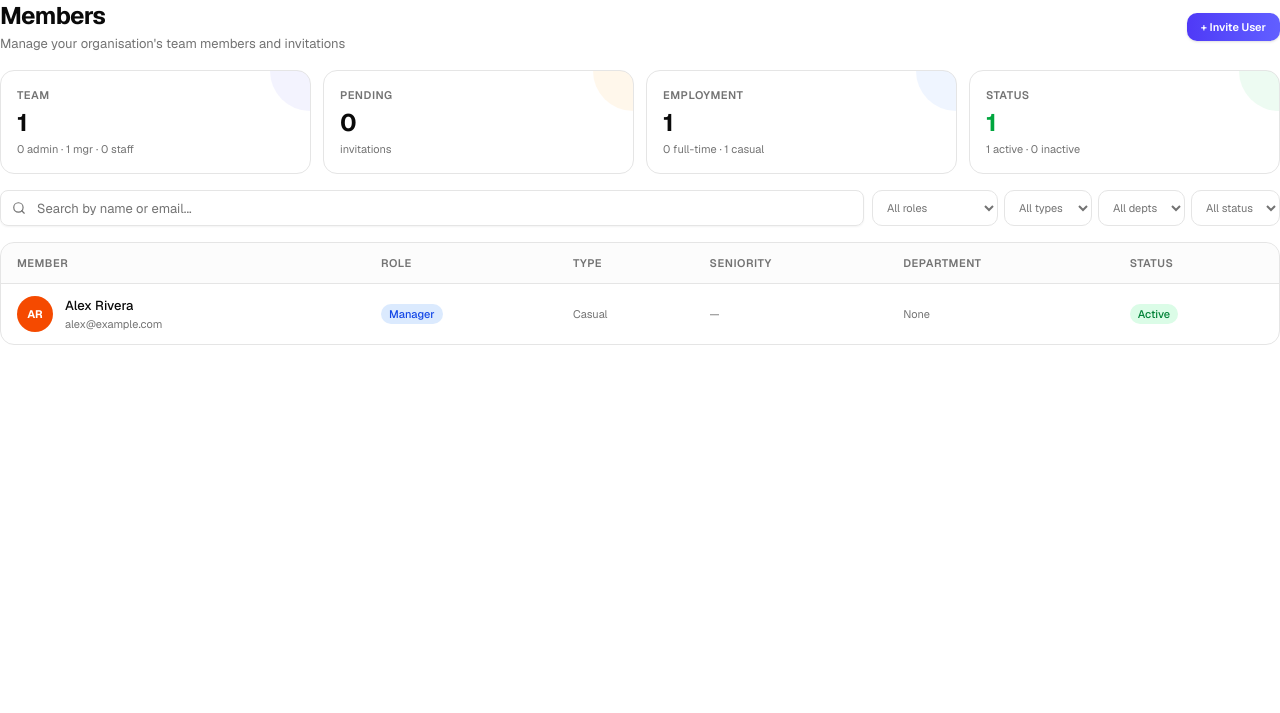
Scenario: a failed edit says which fault occurred › says the response was unreadable rather than blaming nothing in particular
Click the button with aria-label "edit" at (99, 306), box [65,296,133,316]
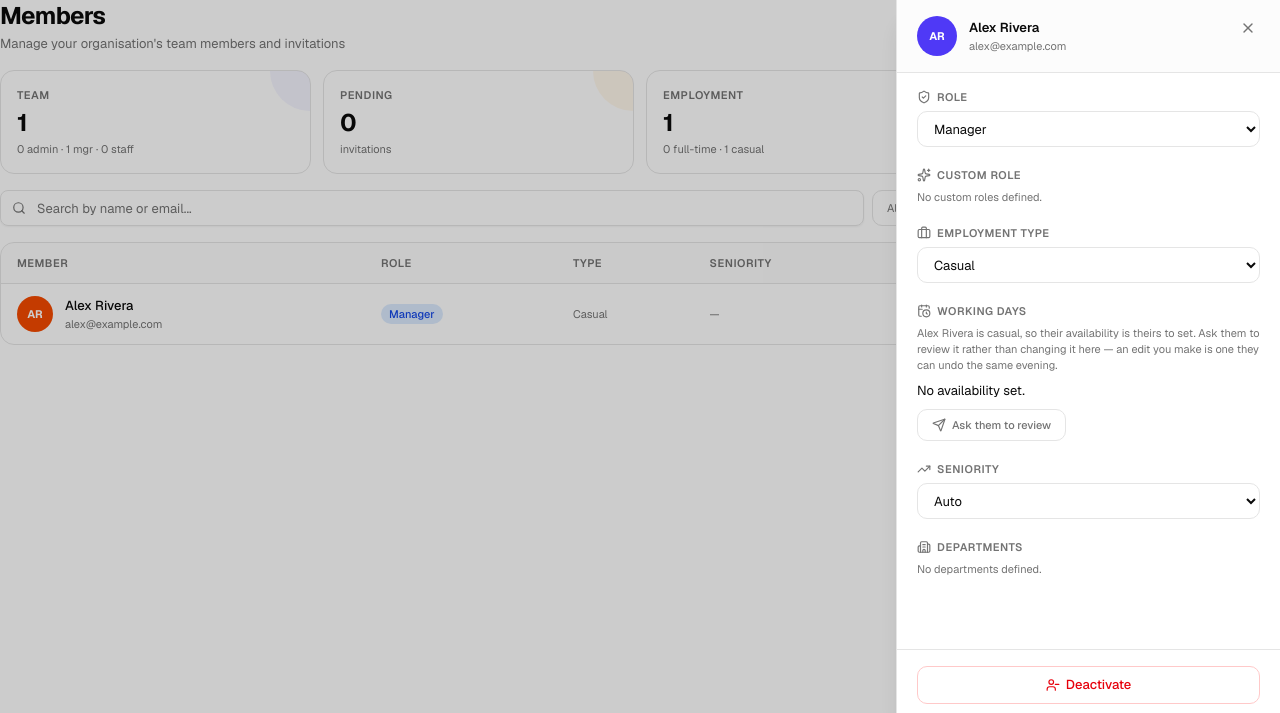
Select "Staff" in the dropdown labelled "Role" at (1088, 129), box [917,111,1260,147]
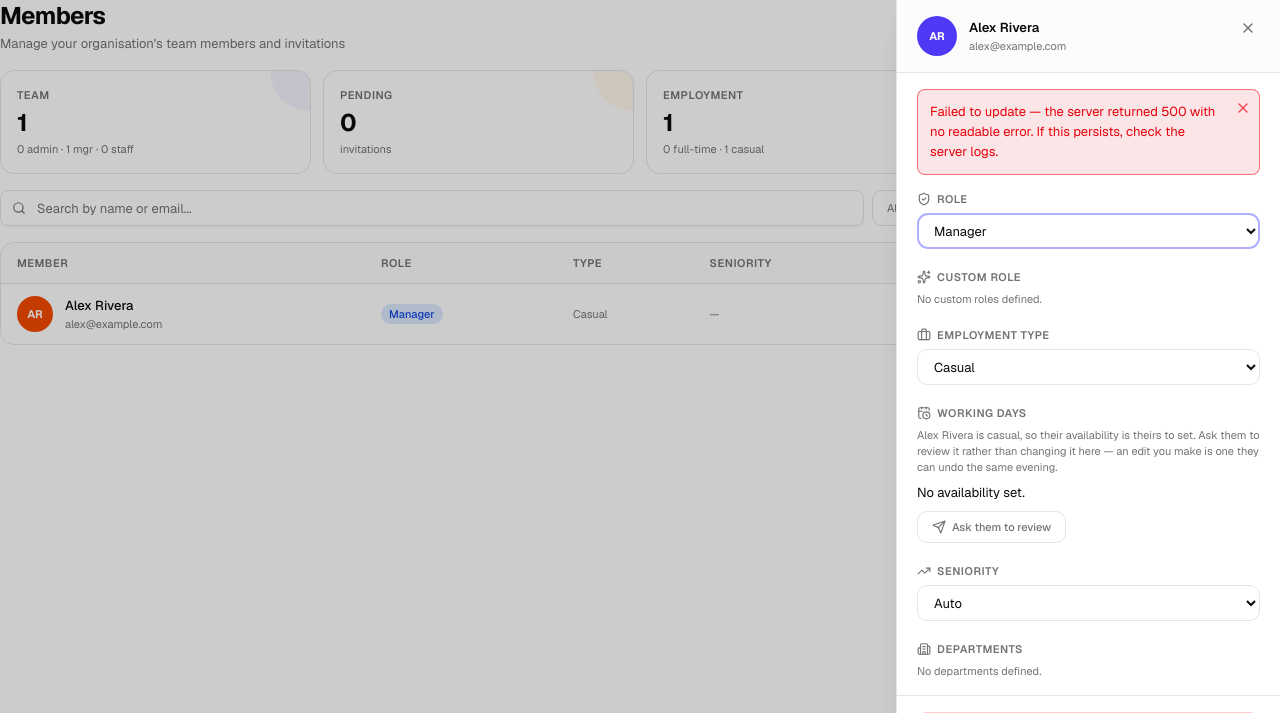
Result: the text "no readable error" shows "500" at [930,103,1215,160]
